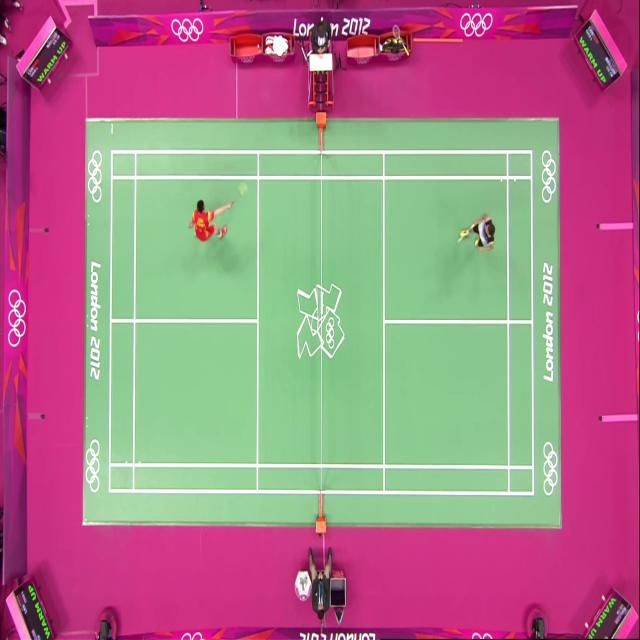Net: (312, 115, 332, 542)
Player1: (470, 186, 520, 274)
Player2: (172, 183, 218, 281)
